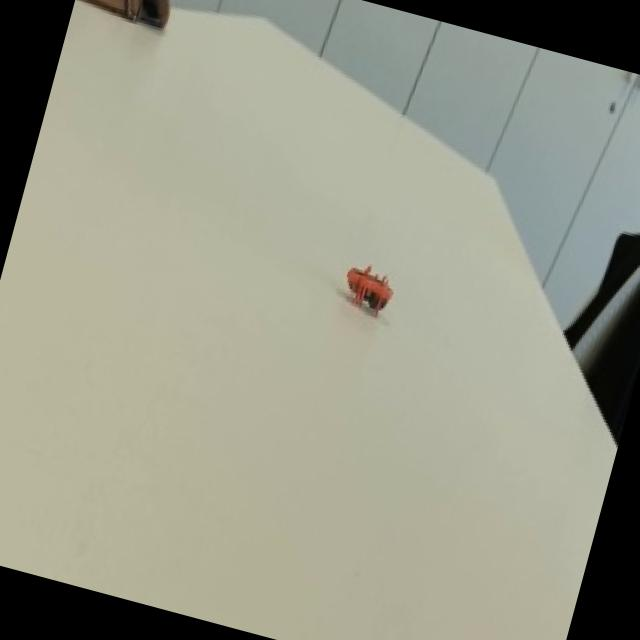7_NanoBug_Naranja: (323, 242, 416, 347)
